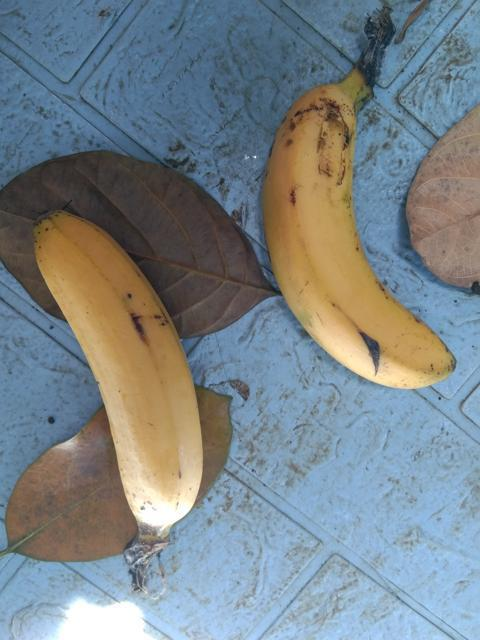freshripe: (17, 204, 236, 575)
ripe: (248, 77, 460, 424)
